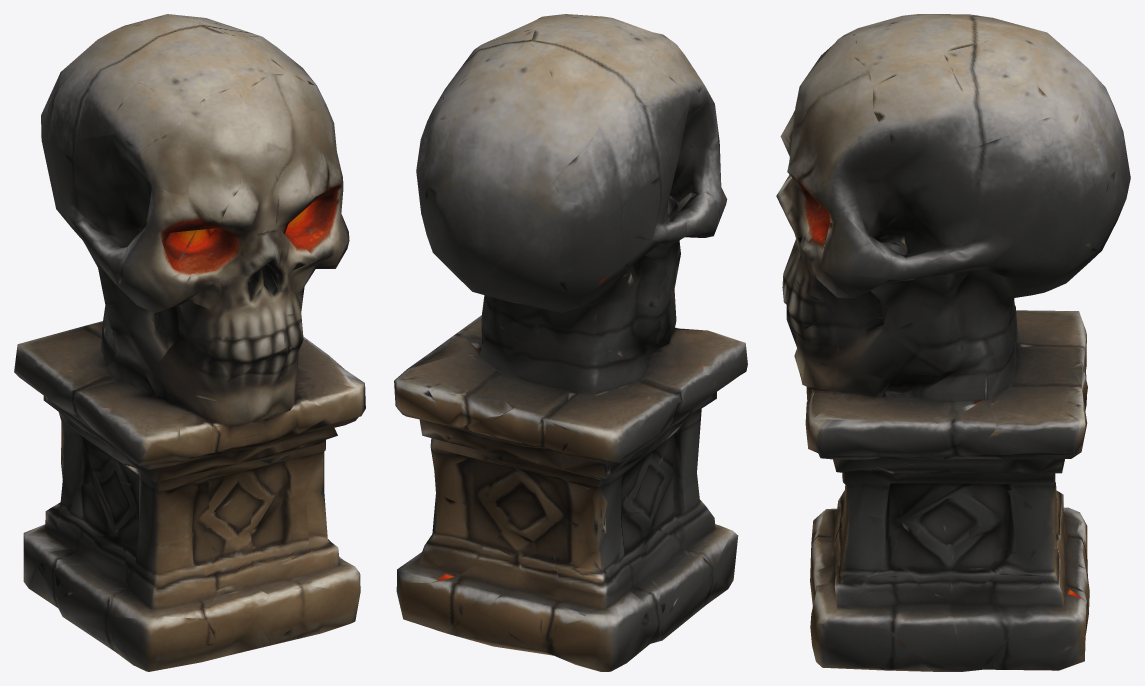
The model's file is skull_idol.glb.
The picture shows the model from 3 angles, left to right: view 1: azimuth 30°, elevation 25°; view 2: azimuth 150°, elevation 25°; view 3: azimuth 270°, elevation 25°; orthographic projection. The views are drawn at different scales.
Size of the model in its own units: 0.8589 by 2 by 1.09.
Materials: 1 (1 with a texture image).
